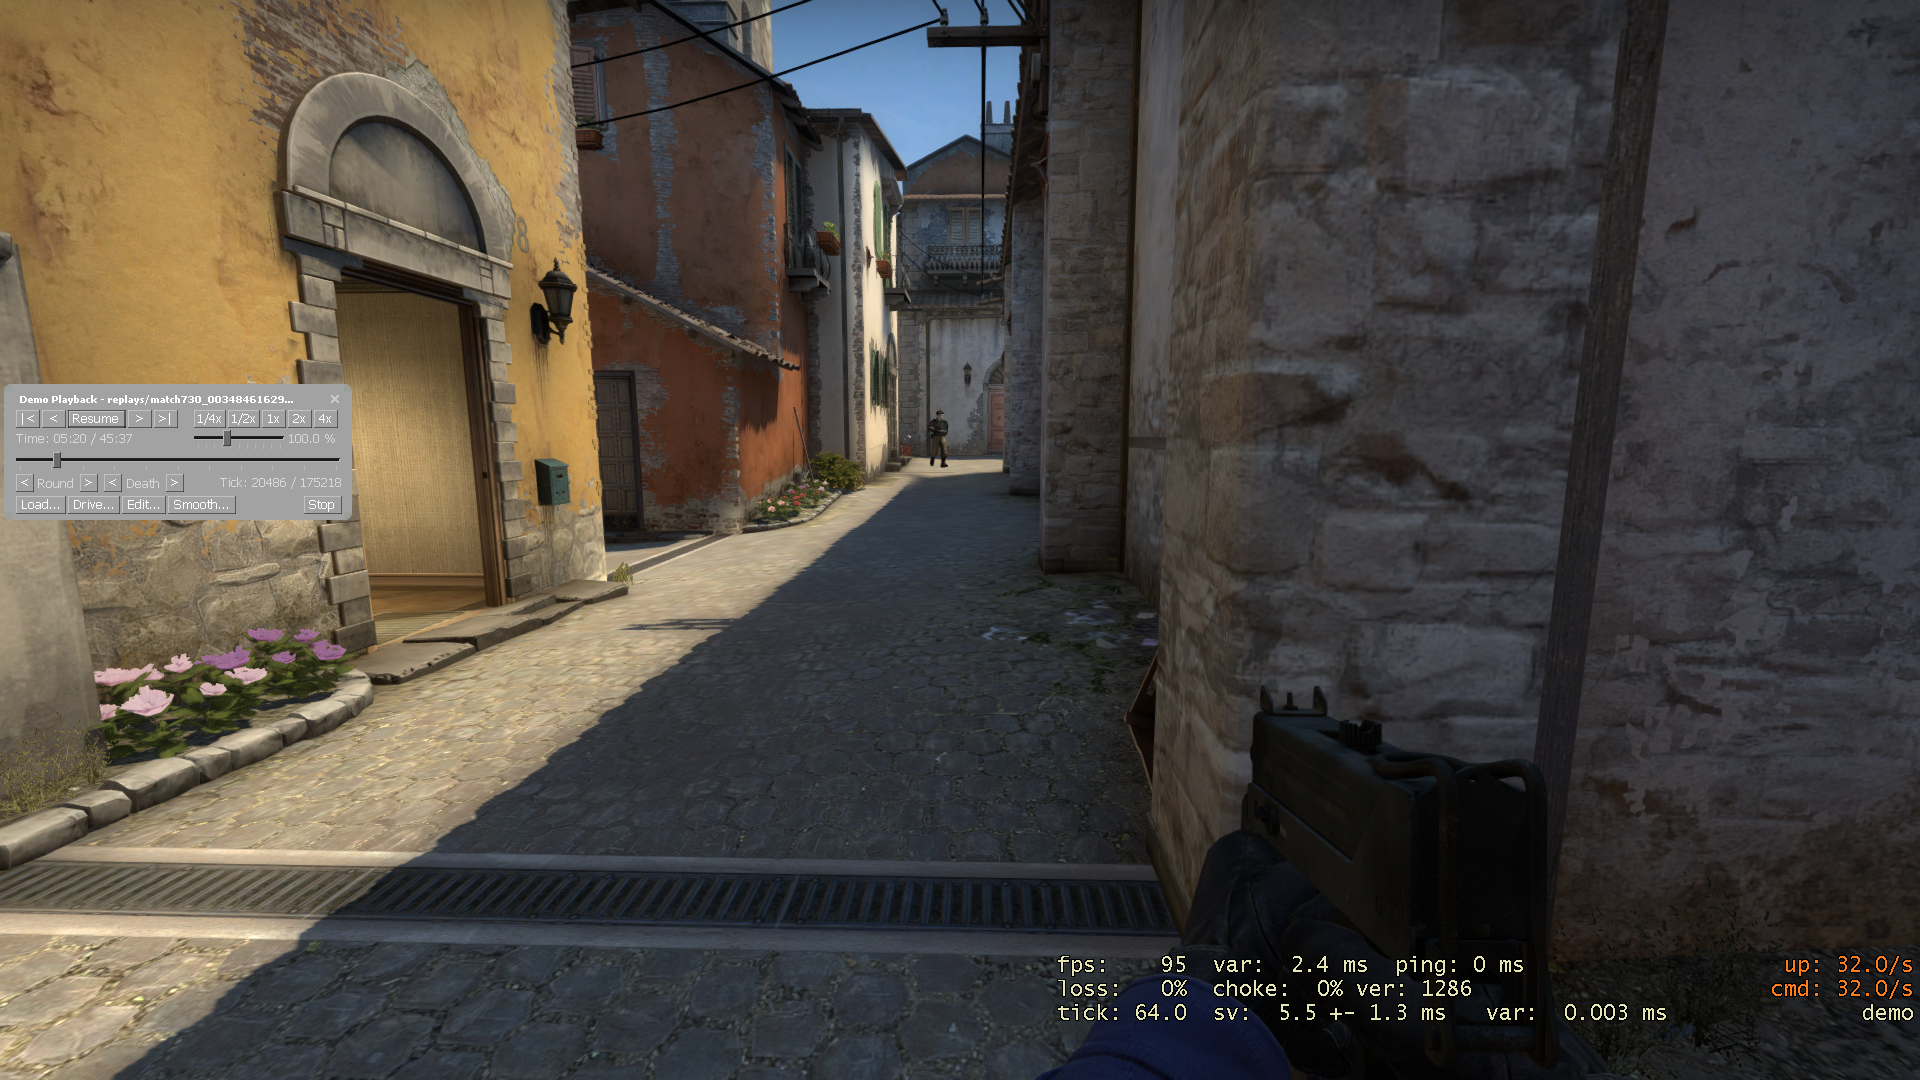t: (928, 411, 949, 468)
